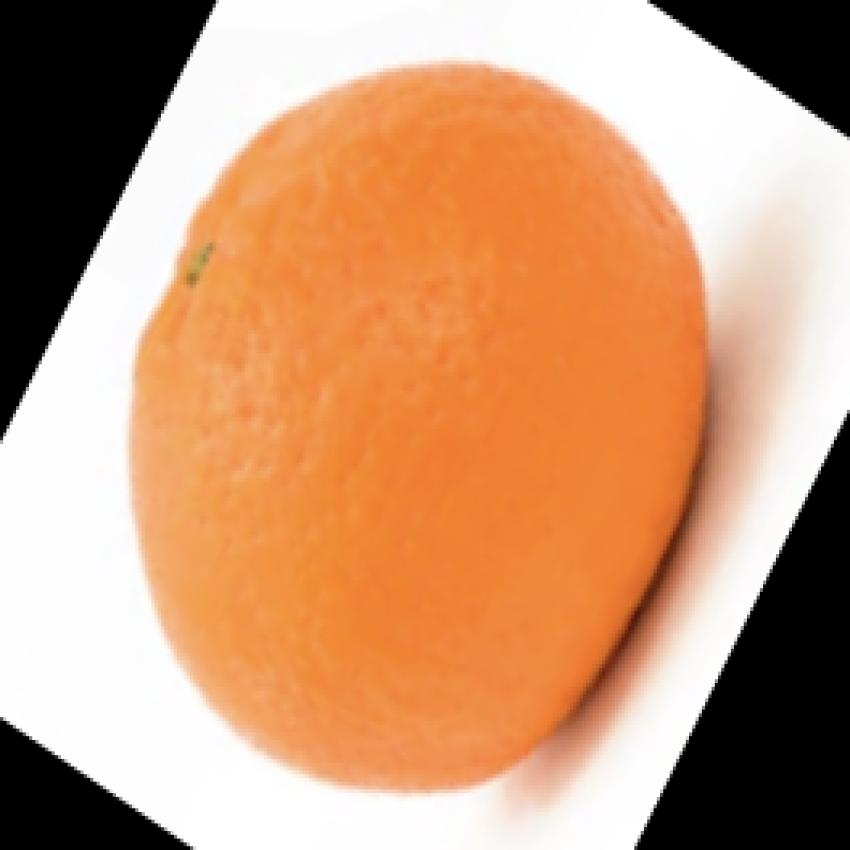Buen estado: (126, 30, 730, 799)
